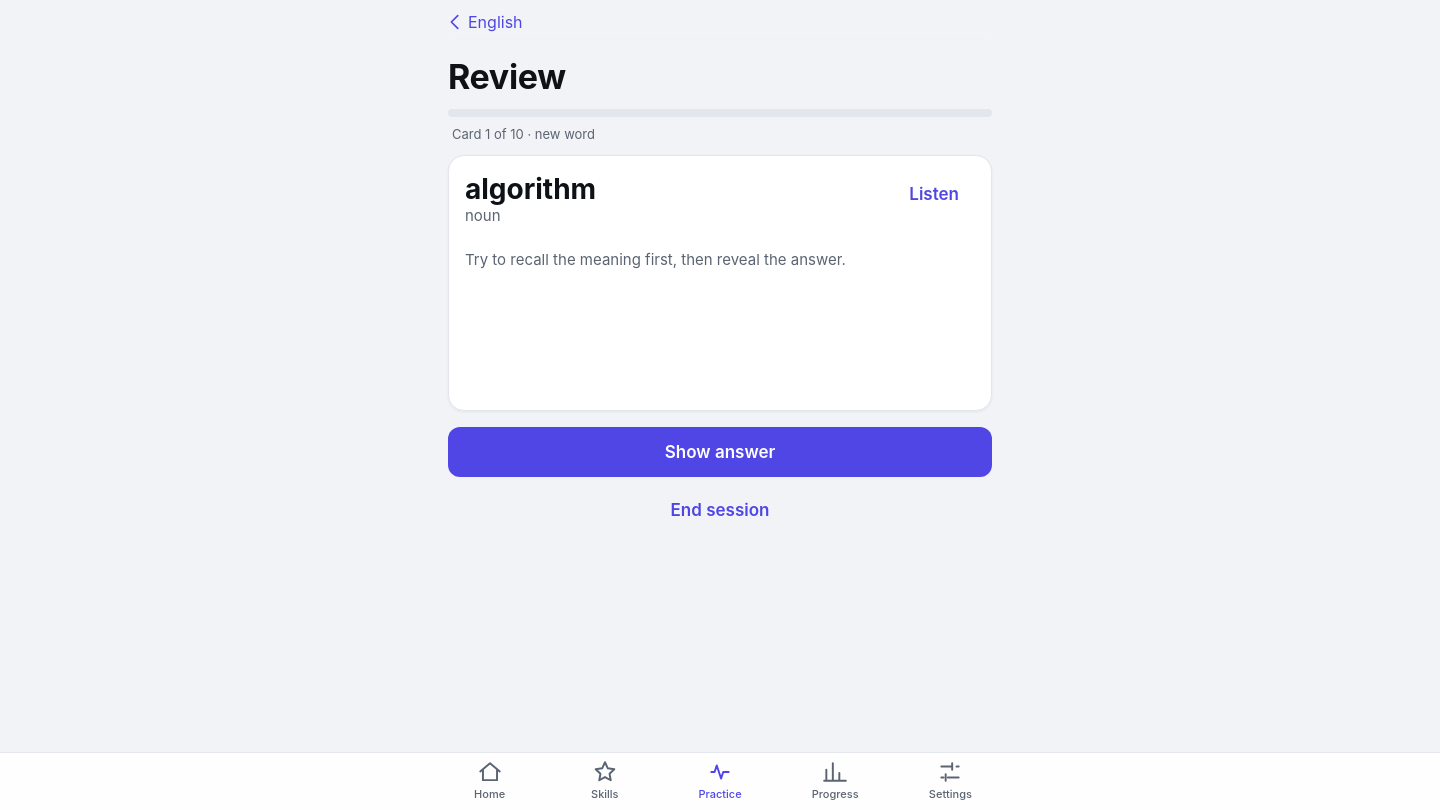
Test case: Review session › shows a word, reveals the answer, saves your grade and records the session for XP
Expected: the heading "algorithm" is shown, top-left (465, 172), bottom-right (596, 206)
Expected: the text "A step-by-step set of rules for solving a problem." is not shown
Click the button "Show answer" at (720, 452), box top-left (448, 427), bottom-right (992, 477)
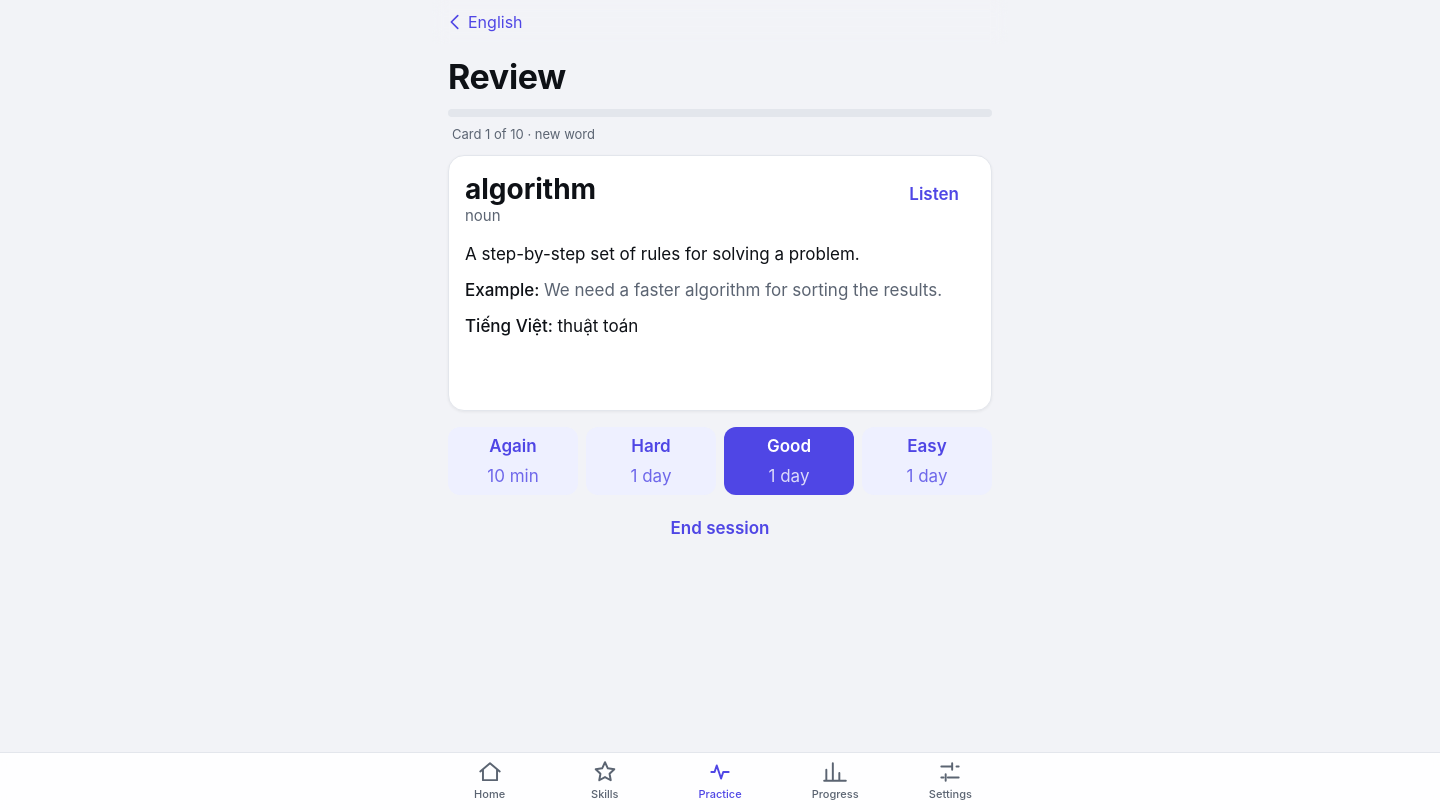
Now the text "A step-by-step set of rules for solving a problem." is shown, box top-left (465, 244), bottom-right (860, 264)
Now the text "thuật toán" is shown, box top-left (558, 316), bottom-right (638, 336)
Click the button "Good 1 day" at (789, 461), box top-left (724, 427), bottom-right (854, 495)
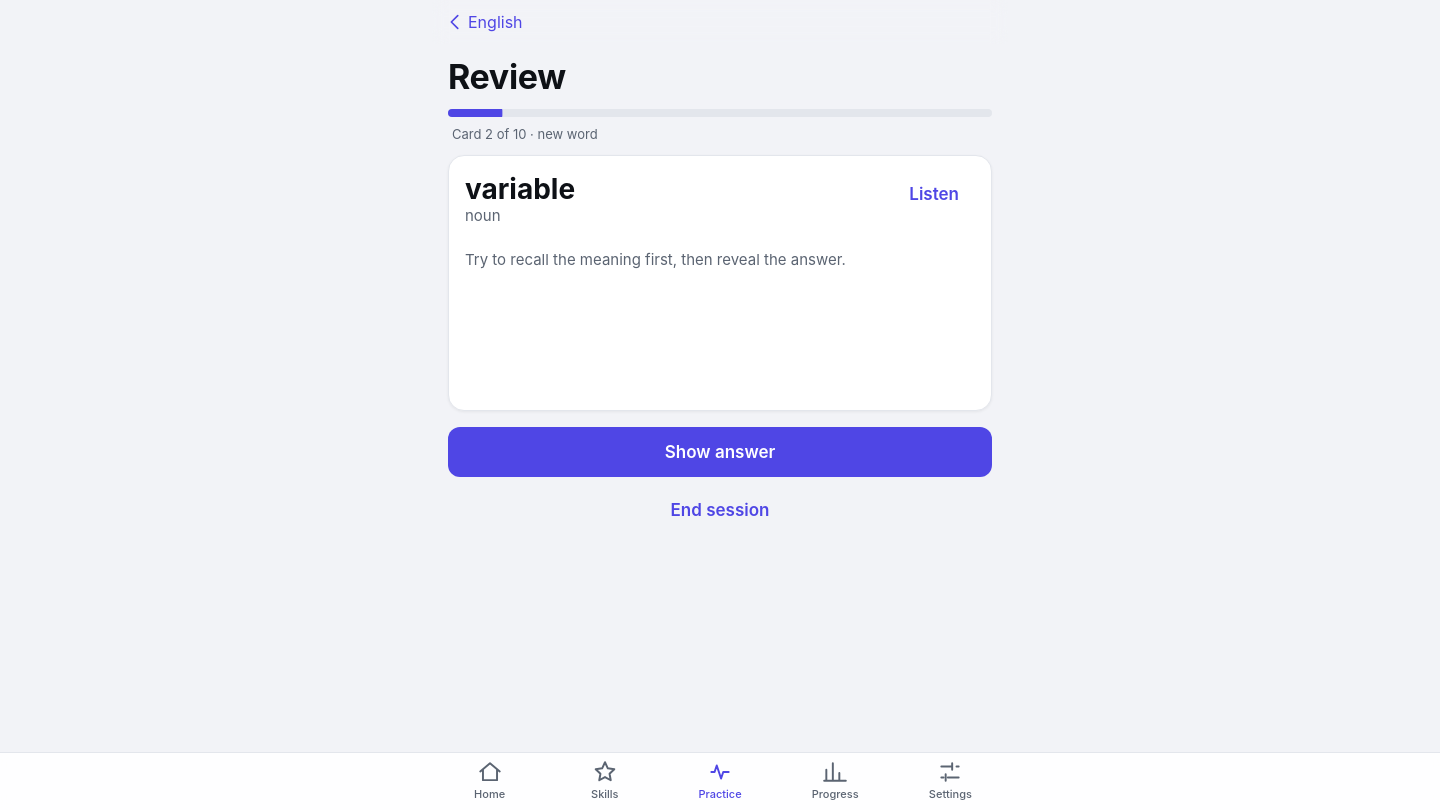
Now the heading "variable" is shown, box top-left (465, 172), bottom-right (575, 206)
Click the button "End session" at (720, 510), box top-left (448, 485), bottom-right (992, 535)
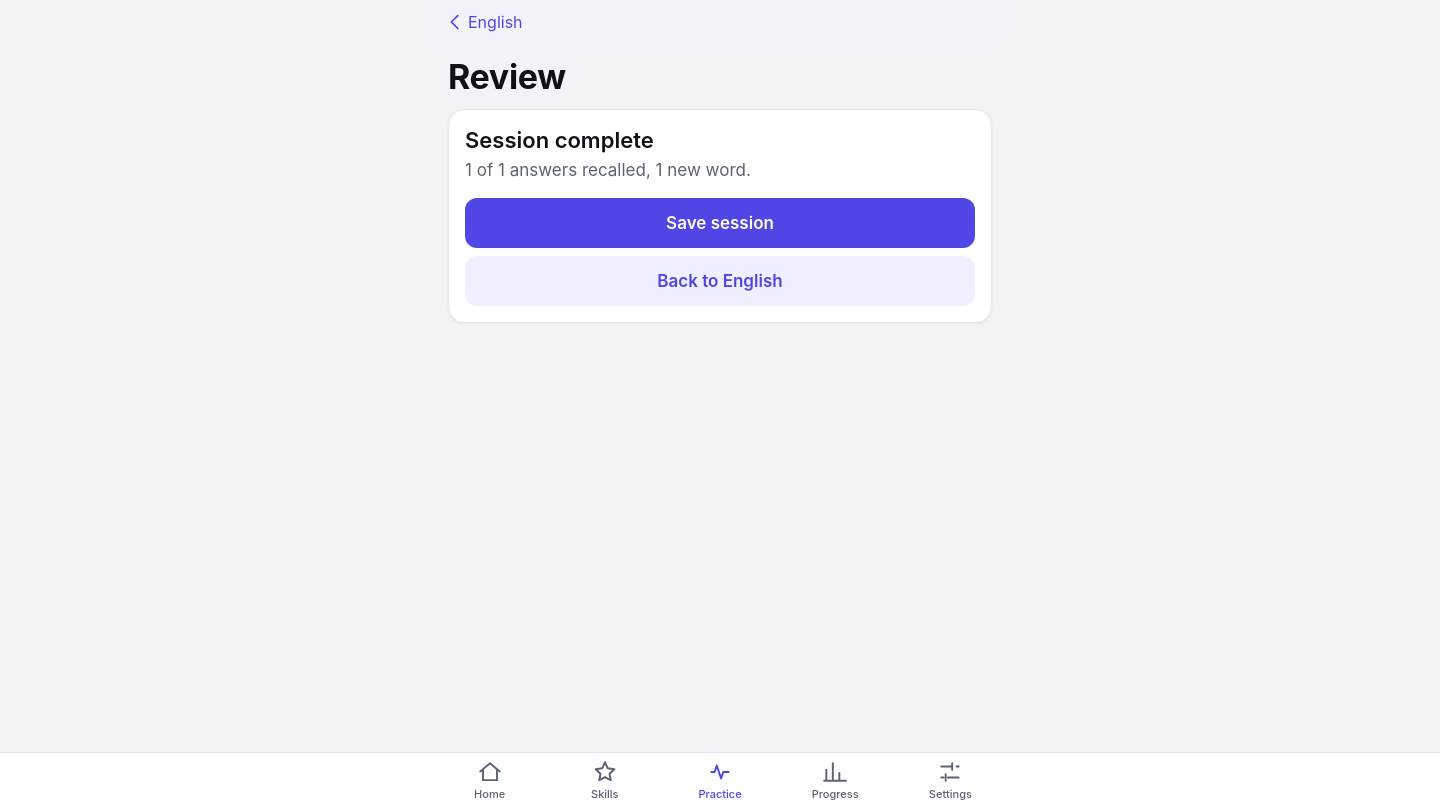
Now the heading "Session complete" is shown, box top-left (465, 127), bottom-right (654, 153)
Now the text "1 of 1 answers recalled, 1 new word." is shown, box top-left (465, 160), bottom-right (751, 180)
Click the button "Save session" at (720, 223), box top-left (465, 198), bottom-right (975, 248)
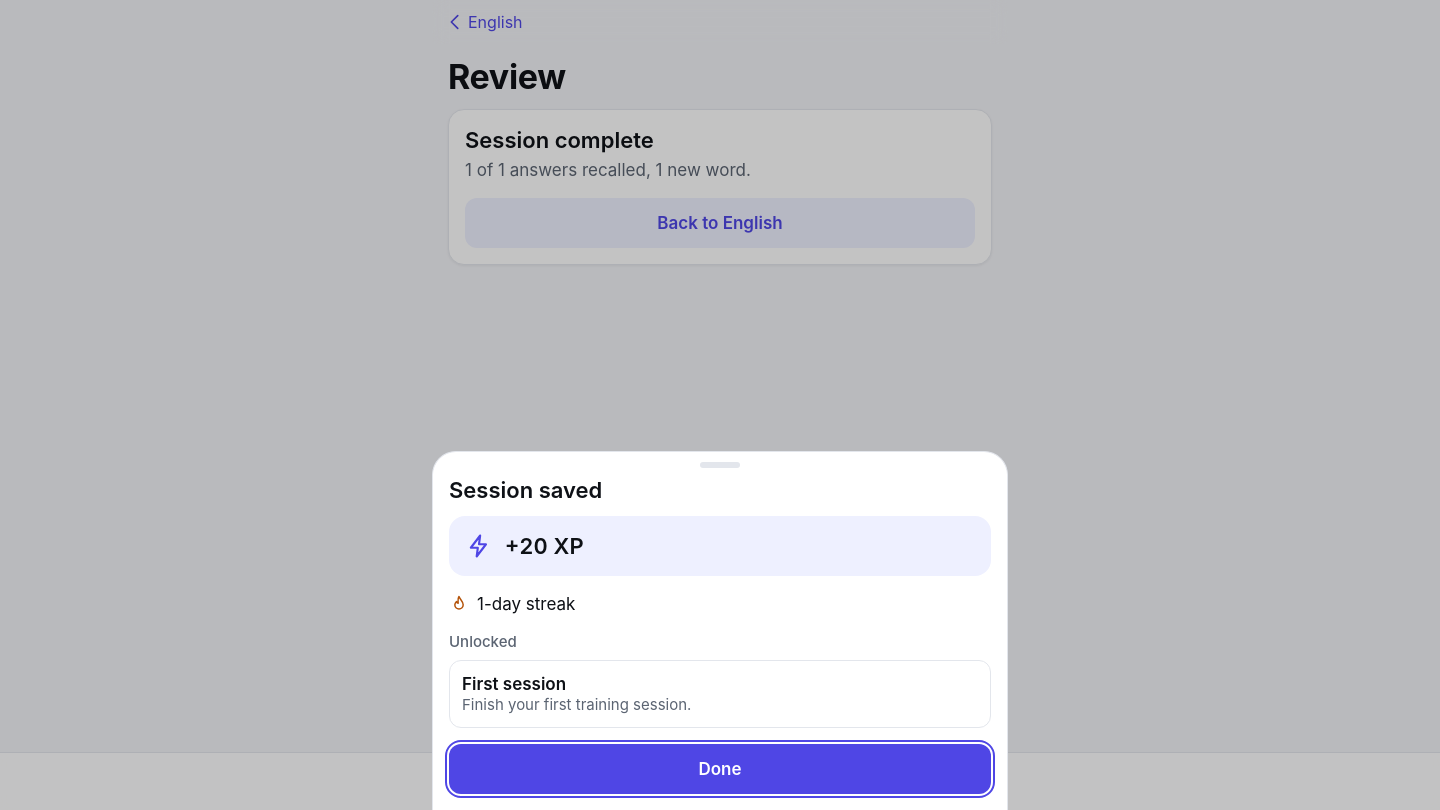
Now the text "+20 XP" is shown, box top-left (505, 532), bottom-right (584, 560)
